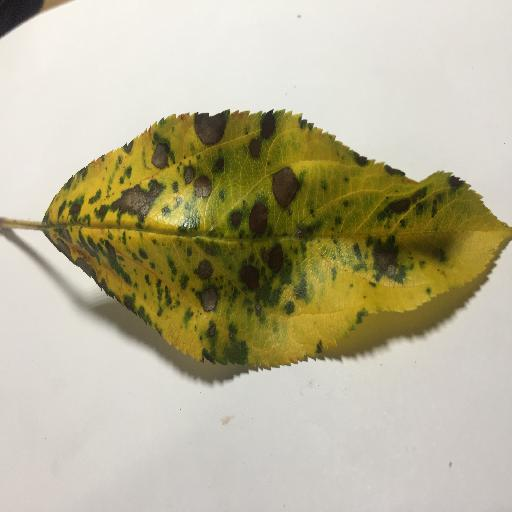Brown_Spot: (370, 240, 407, 278), (194, 114, 227, 142), (268, 167, 292, 199), (252, 205, 272, 233), (270, 246, 290, 274), (114, 199, 150, 214), (388, 200, 423, 215), (187, 262, 213, 278), (193, 178, 214, 196), (195, 289, 218, 305), (148, 143, 166, 162), (177, 166, 193, 184)
